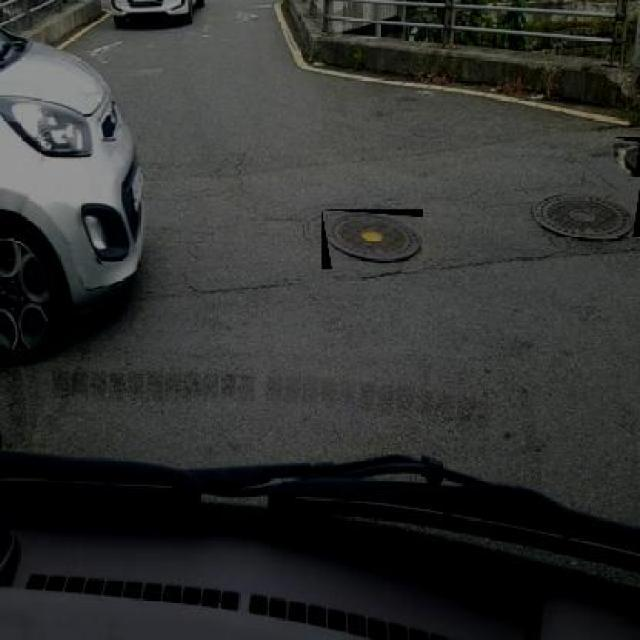Manhole: (322, 209, 424, 269), (527, 188, 640, 237), (614, 138, 640, 178)
Pothole: (589, 145, 613, 160), (391, 94, 422, 100)
